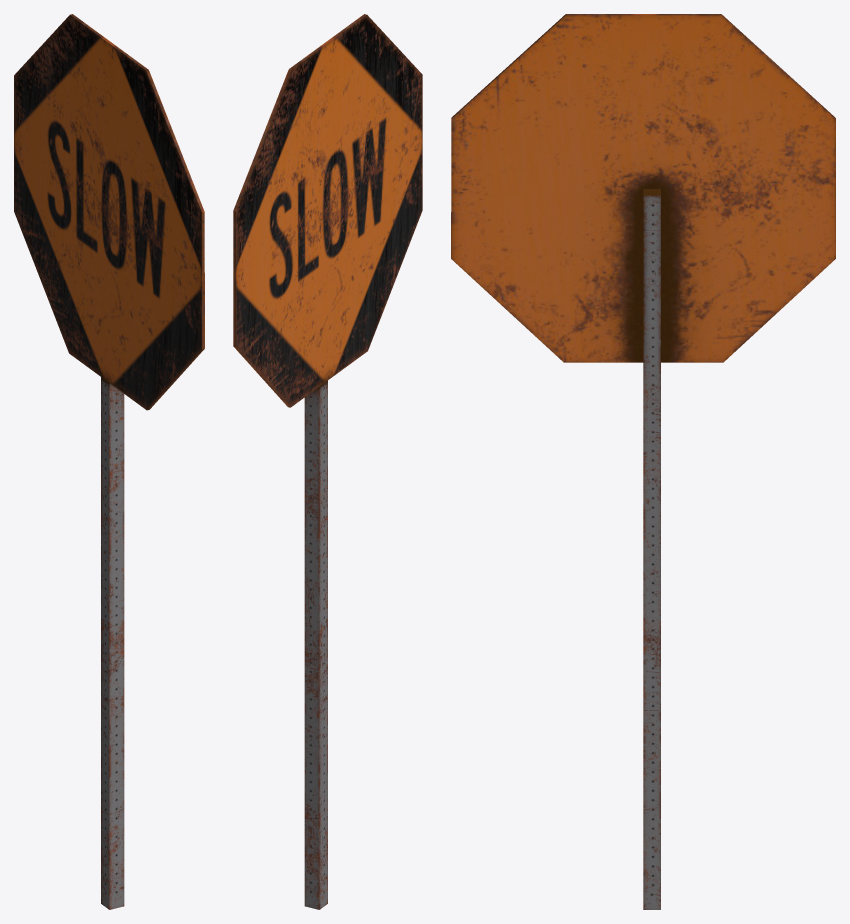
Rendered from SignSlow.fbx.
3 views of the same model, side by side, from view 1: azimuth 30°, elevation 25°; view 2: azimuth 150°, elevation 25°; view 3: azimuth 270°, elevation 25° (orthographic). The views are drawn at different scales.
Visible parts, largest first — view 1: pCube51, pCube118; view 2: pCube51, pCube118; view 3: pCube51, pCube118.
Boxes of the visible parts, x1,y1,x2,y2 form: pCube51: [14, 14, 204, 410]; pCube118: [101, 377, 124, 909]; pCube51: [233, 14, 422, 407]; pCube118: [304, 380, 327, 909]; pCube51: [451, 14, 835, 362]; pCube118: [643, 189, 660, 909].
Size of the model in its own units: 0.058 by 1.16 by 2.96.
